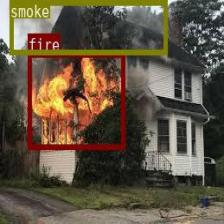fire: (27, 51, 124, 148)
smoke: (9, 0, 167, 53)
